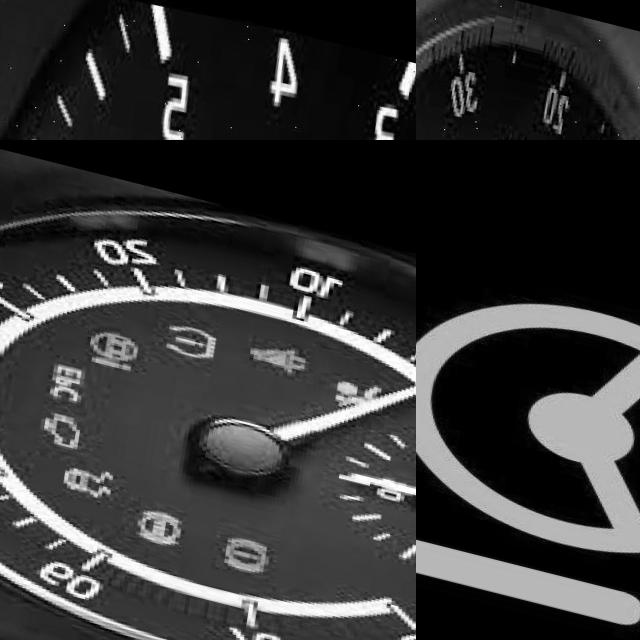Electronic Power Steering: (416, 255, 640, 630), (92, 315, 148, 364)
Seat Belt: (253, 322, 315, 358)
